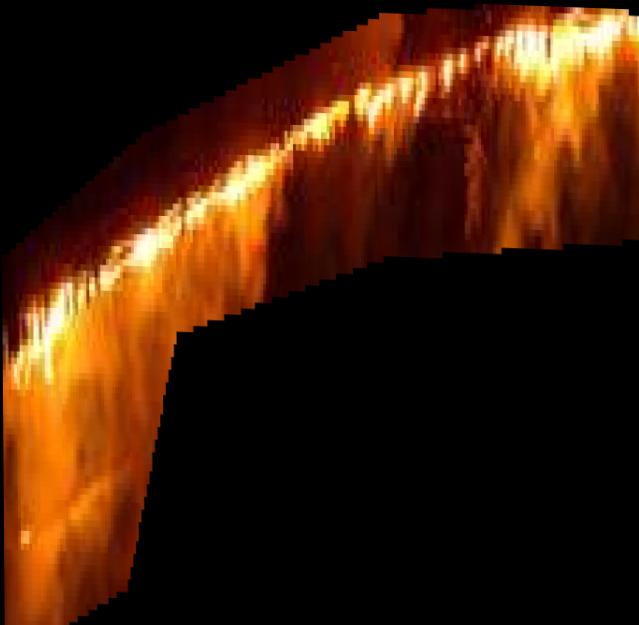fire: (1, 0, 639, 625)
